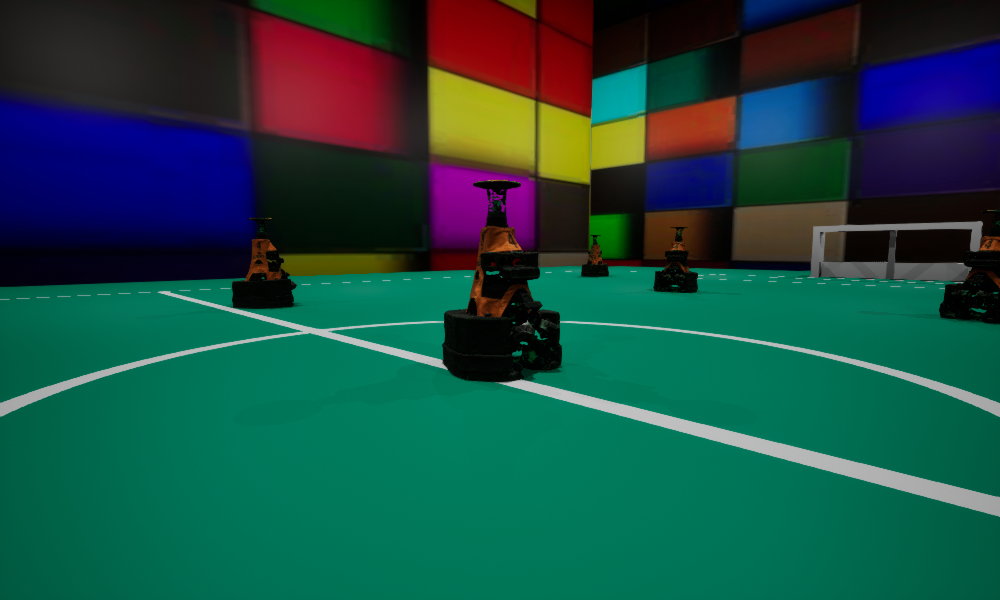0 orange robot TechUnited: (442, 180, 561, 381), (939, 210, 999, 322), (232, 218, 296, 308), (653, 227, 697, 291), (581, 235, 608, 276)
